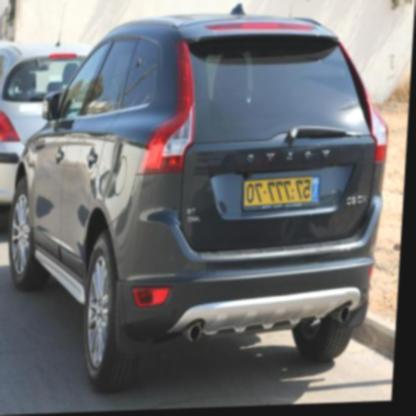License_Plate: (241, 176, 320, 213)
